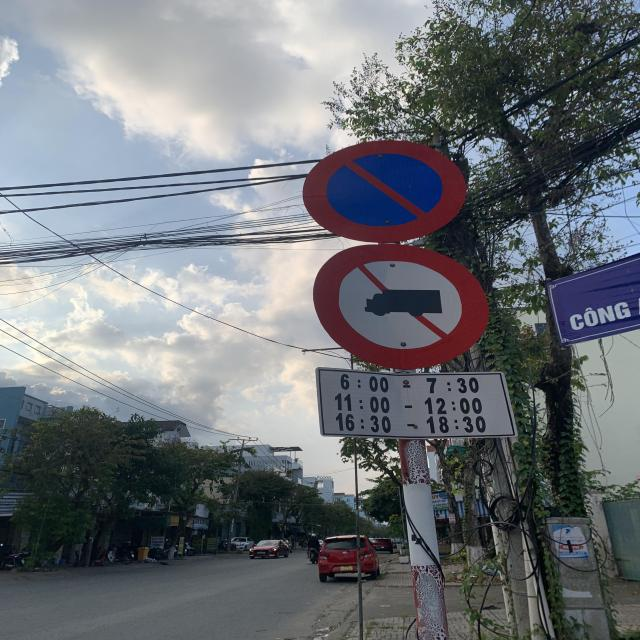Cam_Dau_Xe: (302, 141, 467, 243)
Cam_Xe_Tai: (314, 244, 487, 367)
